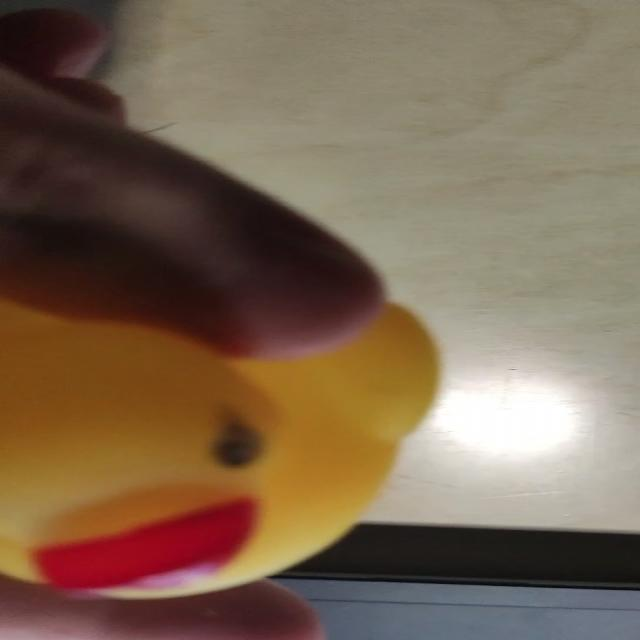rubber-duck: (0, 298, 436, 596)
